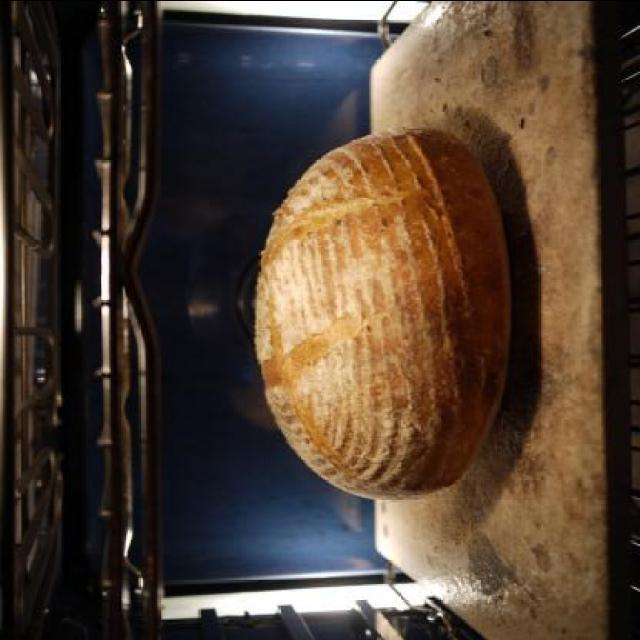Bread: (216, 132, 538, 488)
